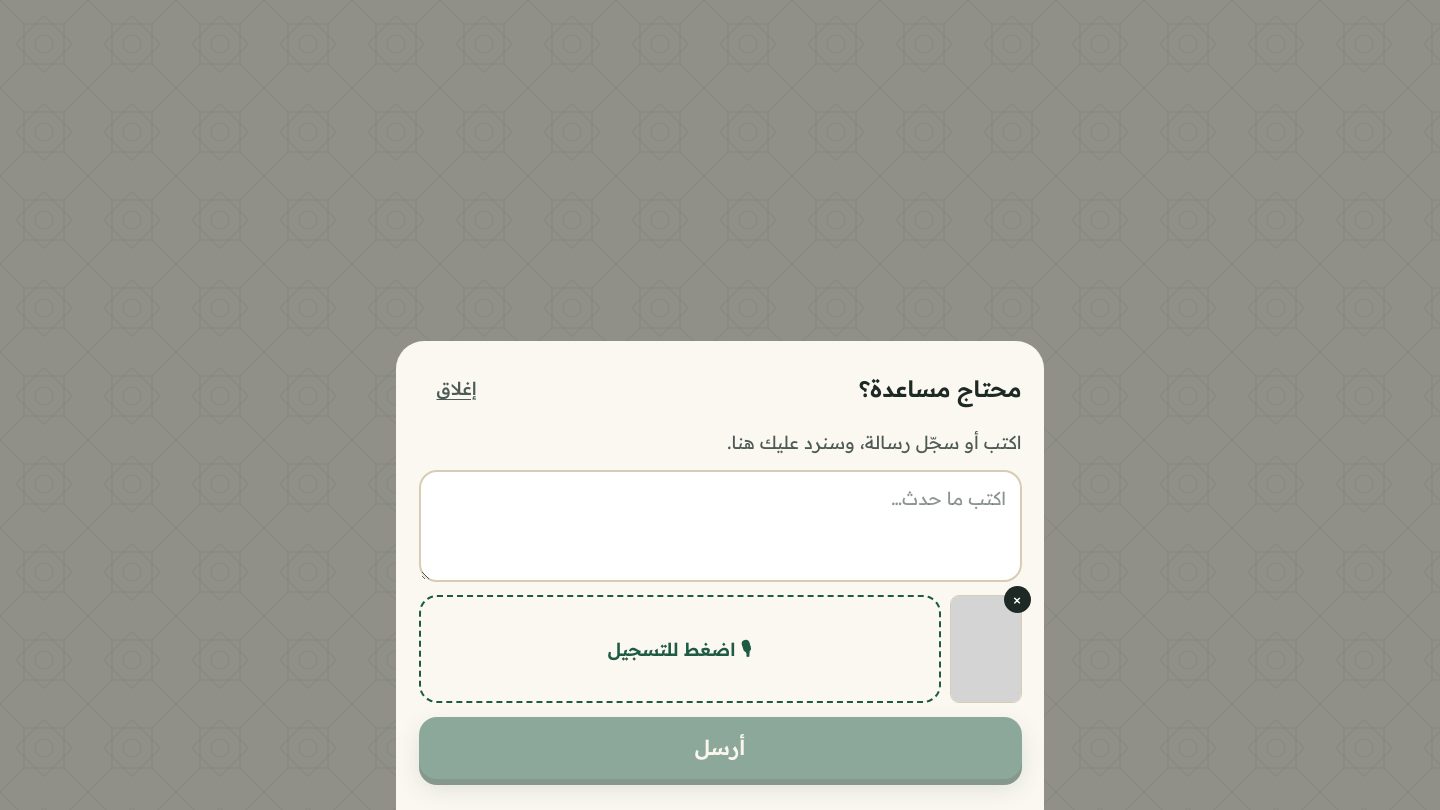
Test case: HelpSheet › won't send a screenshot alone
Expected: the button "أرسل" is disabled, left=418, top=716, right=1022, bottom=778
Type "ما أقدر أدخل" into the text box named "رسالتك".
click(720, 526); type("ما أقدر أدخل")  # box left=418, top=470, right=1022, bottom=582
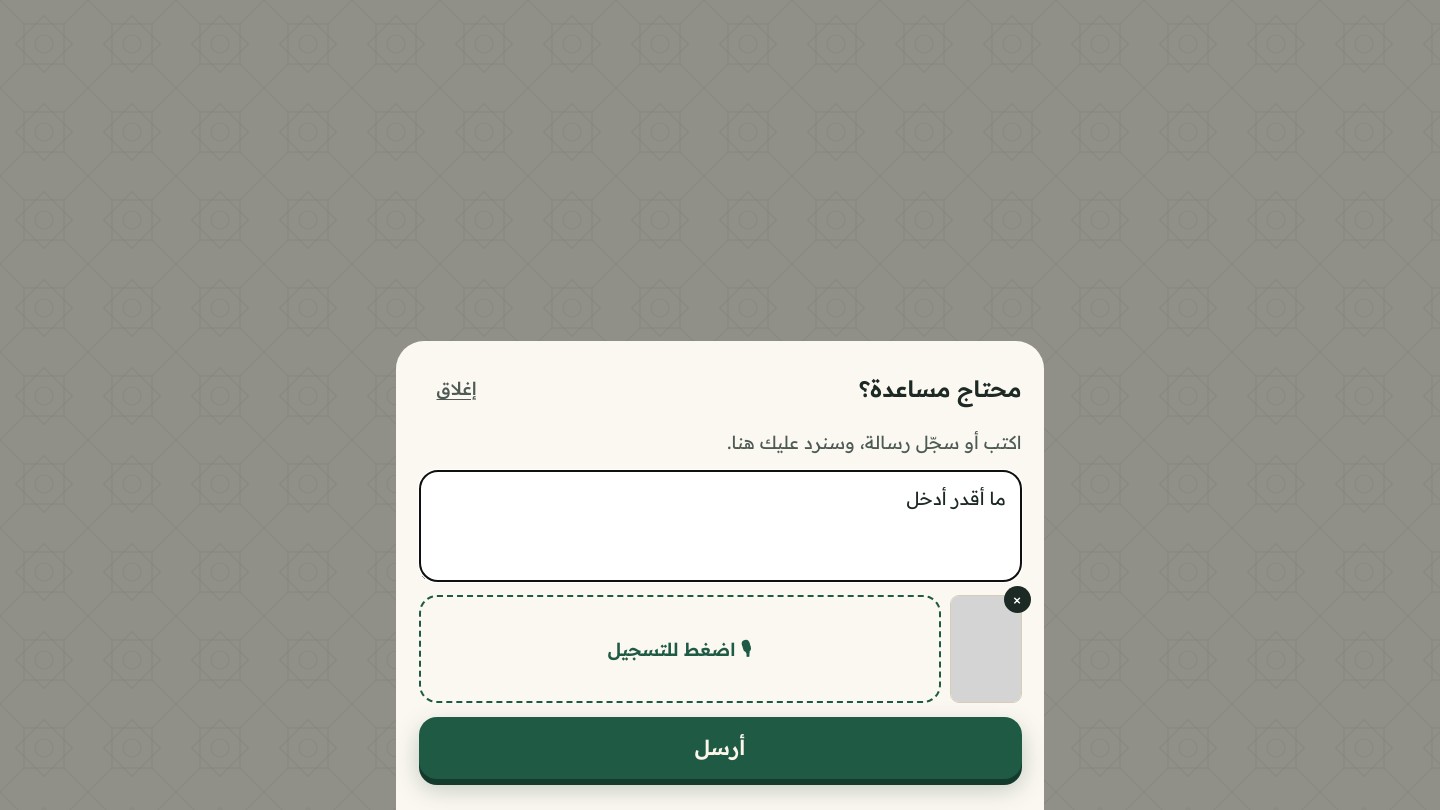
Expected: the button "أرسل" is enabled, left=418, top=716, right=1022, bottom=778
